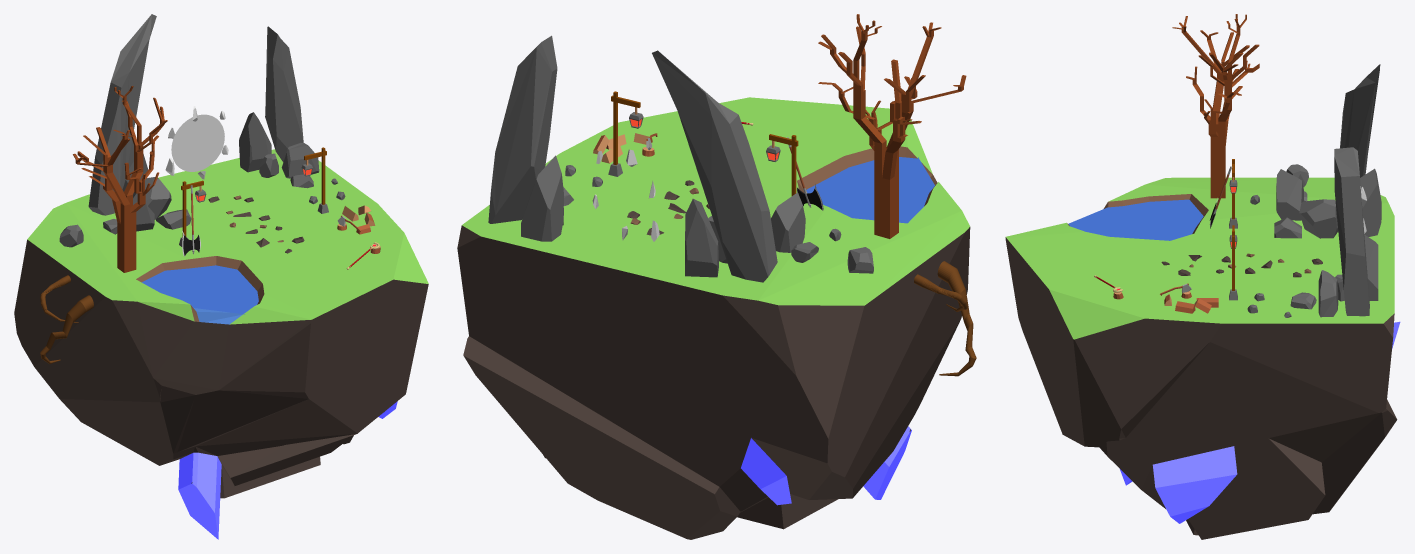
File: portalMaterials.glb
The picture shows the model from 3 angles, left to right: view 1: azimuth 30°, elevation 25°; view 2: azimuth 150°, elevation 25°; view 3: azimuth 270°, elevation 25°; orthographic projection. The views are drawn at different scales.
Visible parts, largest first — view 1: dirt, grass, tree, rock4.004, water surface, rock4, crystals, Circle, pondWalls, rock4.001, protruding roots, rock2.001 (+2 smaller); view 2: dirt, grass, rock4.004, rock4, tree, water surface, crystals, rock4.001, rock4.002, protruding roots, rock4.005, pondWalls (+1 smaller); view 3: dirt, grass, crystals, rock4, tree, water surface, rock4.004, rock1.001, rock4.005, rock4.002, rock2.001, rock4.001 (+2 smaller).
Part boxes in pixels (box(x1,y1,x2,y2)): dirt: box(14, 239, 428, 498); grass: box(27, 149, 428, 324); tree: box(73, 86, 167, 272); rock4.004: box(88, 14, 156, 215); water surface: box(142, 265, 258, 314); rock4: box(265, 26, 303, 162); crystals: box(178, 401, 397, 539); Circle: box(171, 114, 224, 171); pondWalls: box(136, 256, 264, 321); rock4.001: box(239, 112, 271, 172); protruding roots: box(40, 275, 93, 363); rock2.001: box(281, 142, 319, 178); dirt: box(457, 225, 970, 539); grass: box(462, 97, 969, 305); rock4.004: box(652, 50, 777, 282); rock4: box(488, 35, 557, 223); tree: box(818, 14, 966, 238); water surface: box(806, 157, 934, 223); crystals: box(741, 426, 911, 505); rock4.001: box(521, 155, 563, 241); rock4.002: box(685, 198, 718, 277); protruding roots: box(914, 261, 976, 376); rock4.005: box(771, 192, 805, 252); pondWalls: box(797, 146, 937, 206); dirt: box(1005, 237, 1397, 539); grass: box(1006, 177, 1394, 339); crystals: box(1120, 321, 1400, 523); rock4: box(1334, 147, 1369, 316); tree: box(1172, 14, 1259, 198); water surface: box(1068, 199, 1203, 240); rock4.004: box(1340, 64, 1380, 177); rock1.001: box(1299, 199, 1338, 238); rock4.005: box(1276, 169, 1303, 220); rock4.002: box(1360, 168, 1381, 236); rock2.001: box(1318, 270, 1338, 317); rock4.001: box(1364, 234, 1378, 300).
Bounding box in the file's own units: 6.24 × 7.62 × 6.07.
